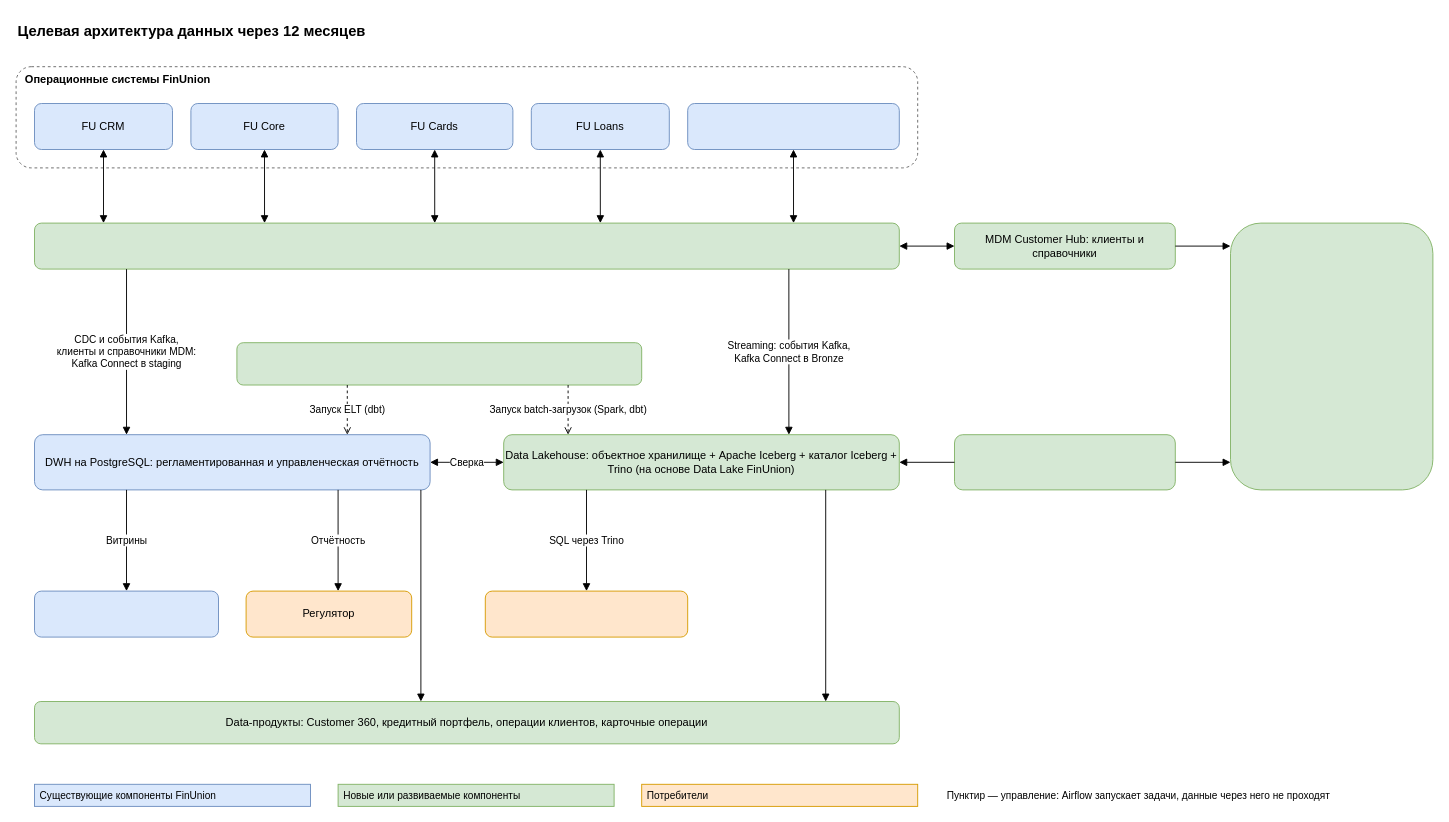
This 1449x822 diagram has some shape labels left out. The shapes that lost their labels are listed below. From the top down, each one's centre as x and y in pixels, then its label:
(793,126): Каналы: офисы, мобильное, веб
(466,245): Integration Layer: ESB FinUnion (синхронно) · Kafka (события) · CDC
(439,363): Airflow + dbt: оркестрация batch-пайплайнов и трансформации
(1331,356): DataHub: каталог, lineage, владельцы; собирает метаданные всех компонентов
(1064,462): Архив RetailBank: объектное хранилище
(126,613): BI
(586,613): Риск-менеджмент, антифрод
